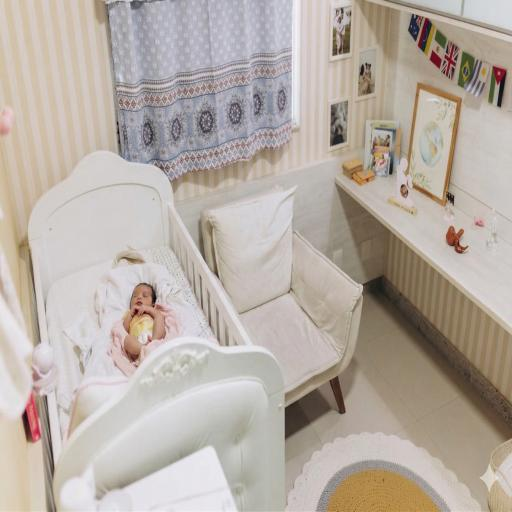baby: (123, 283, 165, 358)
crib: (29, 151, 283, 507)
